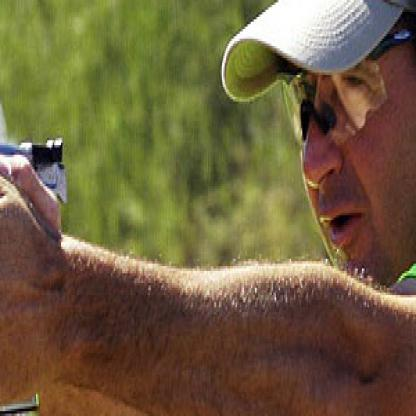gun: (0, 101, 67, 414)
